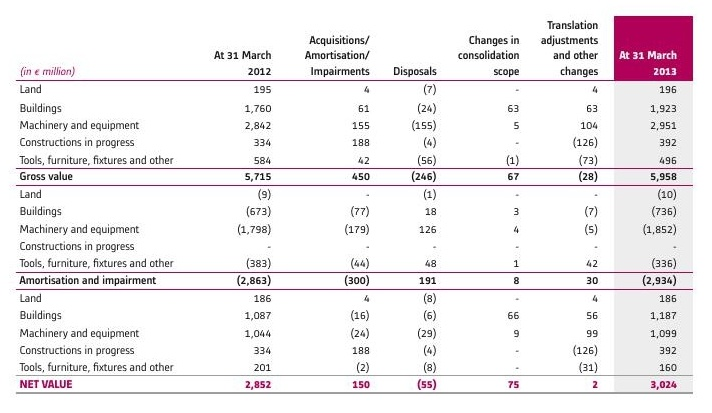table: (0, 0, 712, 413)
